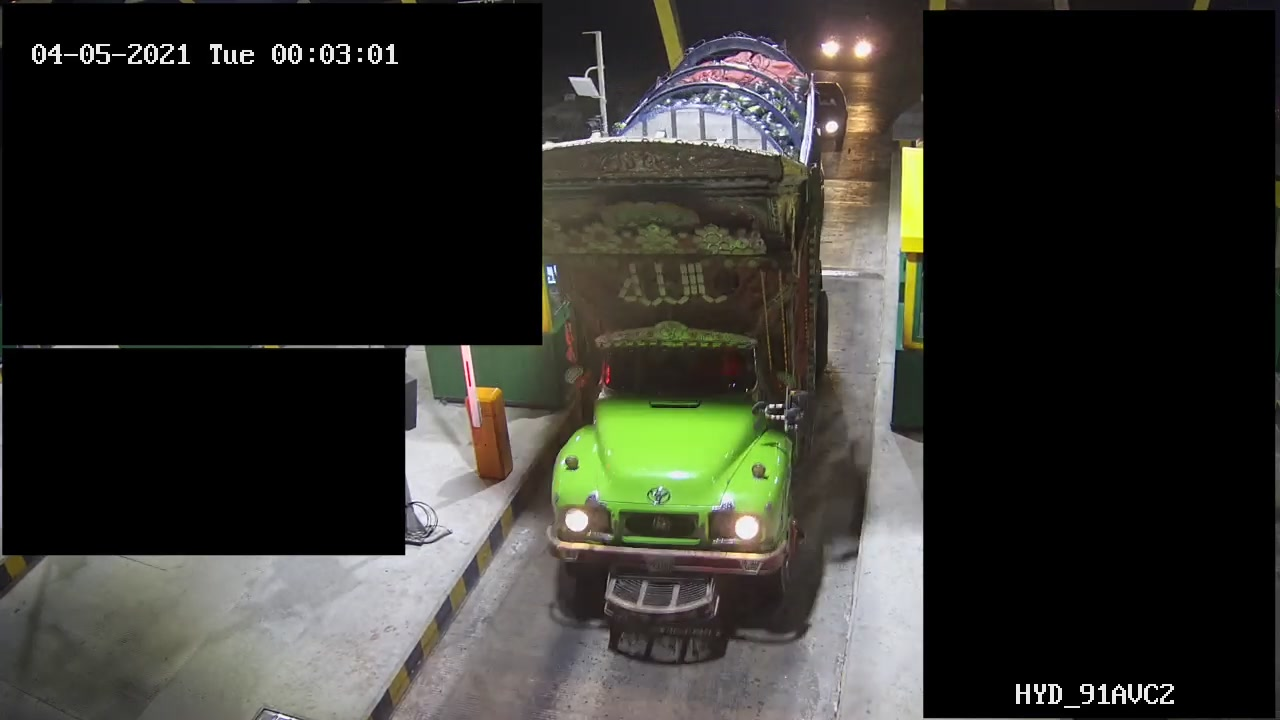F5: (528, 26, 828, 659)
